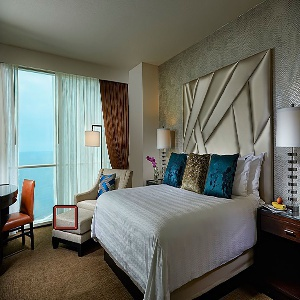square: (52, 204, 79, 231)
